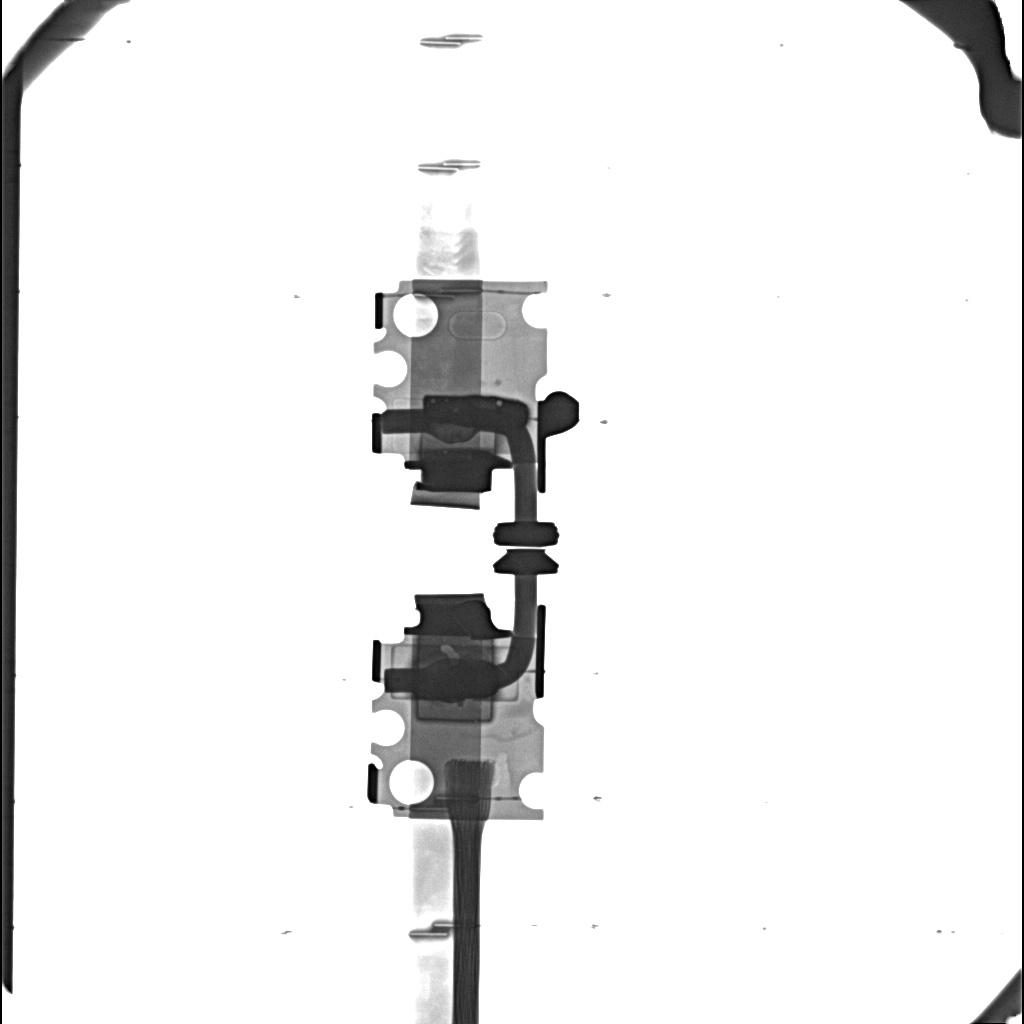气孔: (416, 699, 493, 722)
气泡: (440, 644, 460, 658)
水纹: (424, 396, 528, 430), (415, 660, 497, 700)
